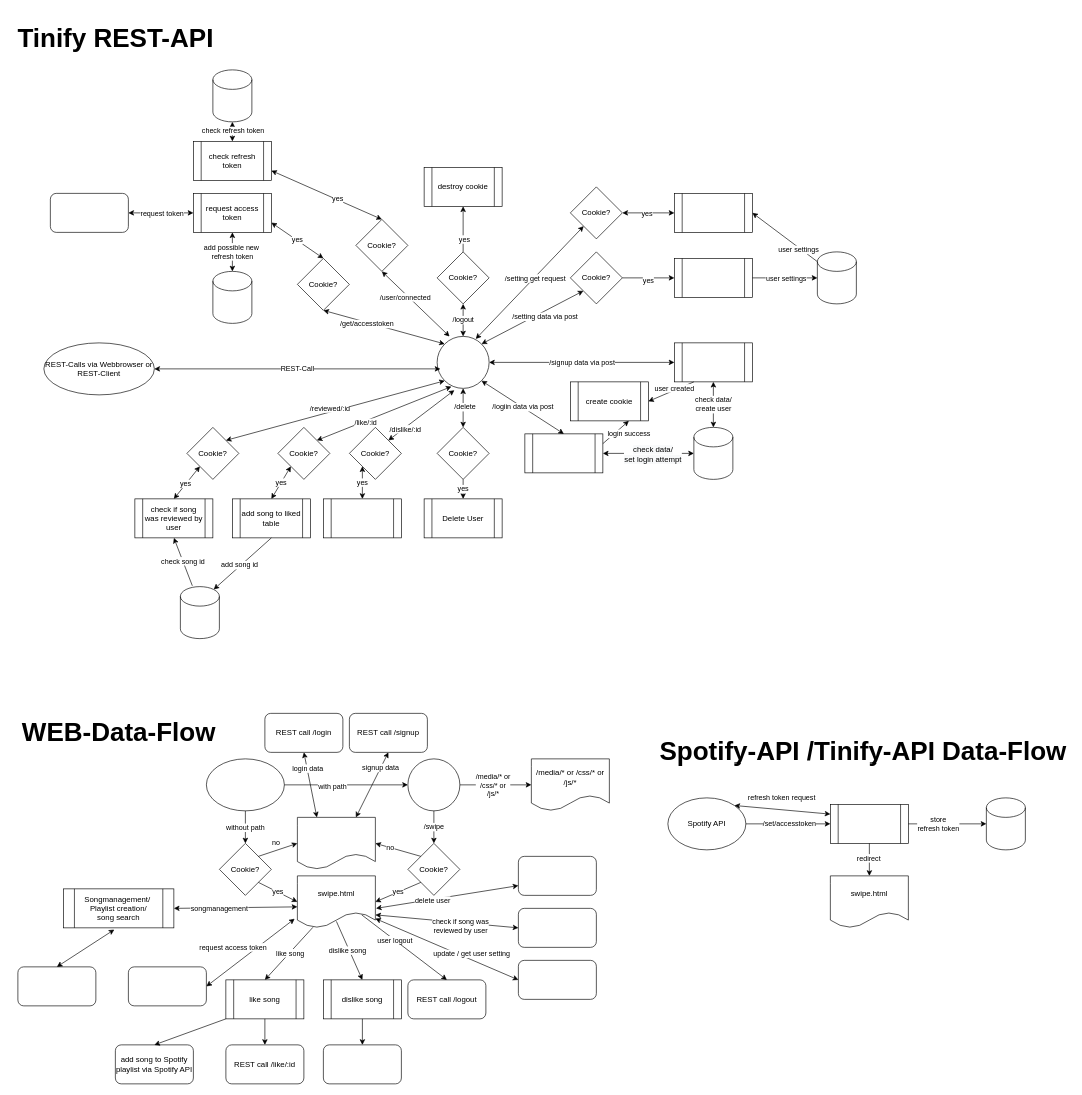
Image size: 1082x1095. Some labels were removed from this diagram. The centre of each missing label's shape, as x and y in pixels:
"add song to disliked table" belongs at [362,518].
"call via Webbrowser" belongs at [245,784].
"index.html" belongs at [336,843].
"Login User" belongs at [563,453].
"read user settings" belongs at [713,212].
"REST call /delete" belongs at [557,875].
"REST call /dislike/:id" belongs at [362,1064].
"REST call /get/accesstoken" belongs at [167,986].
"REST call /reviewed" belongs at [557,927].
"REST call /setting" belongs at [557,979].
"set accesstoken" belongs at [869,823].
"Sign-Up User" belongs at [713,362].
"Spotify API call" belongs at [89,212].
"Spotify-API" belongs at [56,986].
"update user settings" belongs at [713,277].
